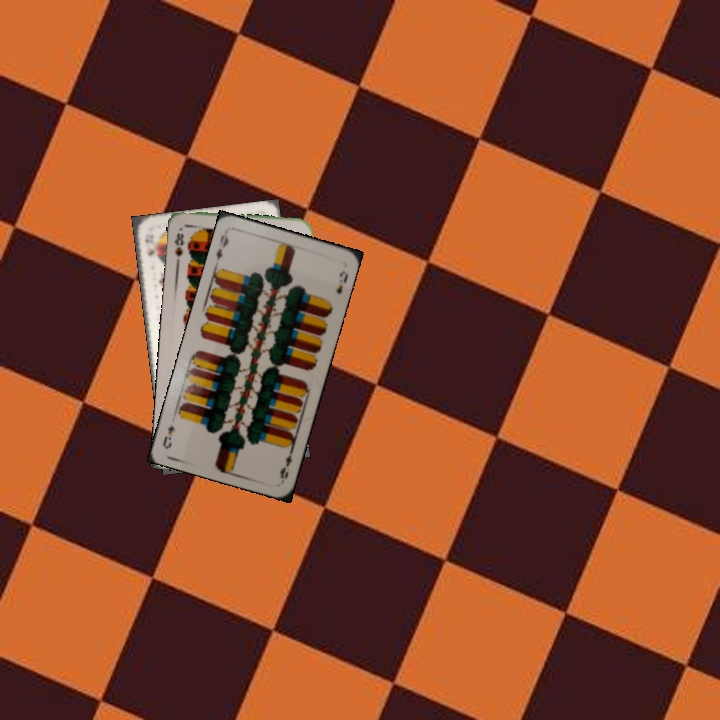E9: (276, 443, 297, 483), (212, 228, 231, 263)
S8: (171, 229, 187, 265)
SK: (141, 230, 157, 258)
